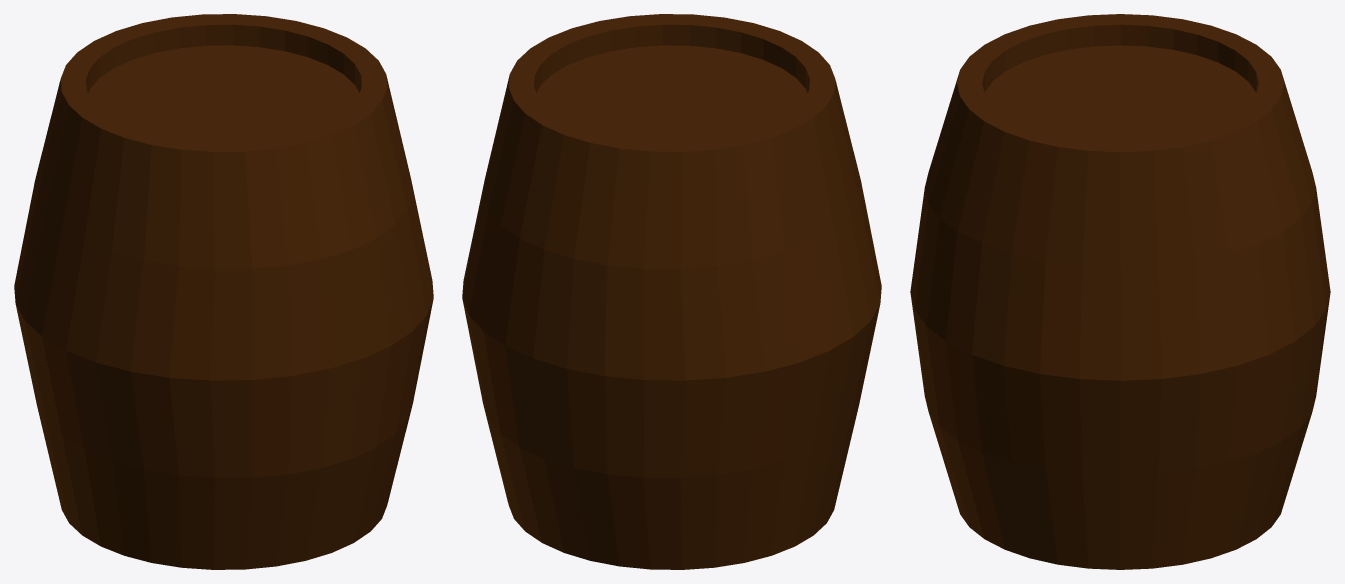
File: tynnyri.fbx
3 renders of one model, left to right at view 1: azimuth 30°, elevation 25°; view 2: azimuth 150°, elevation 25°; view 3: azimuth 270°, elevation 25°, orthographic.
Visible parts, largest first — view 1: Cylinder; view 2: Cylinder; view 3: Cylinder.
Part boxes in pixels (x1,y1,x2,y2): Cylinder: (14,14,433,569); Cylinder: (462,14,881,569); Cylinder: (910,14,1330,569).
Bounding box in the file's own units: 200 × 219 × 200.
